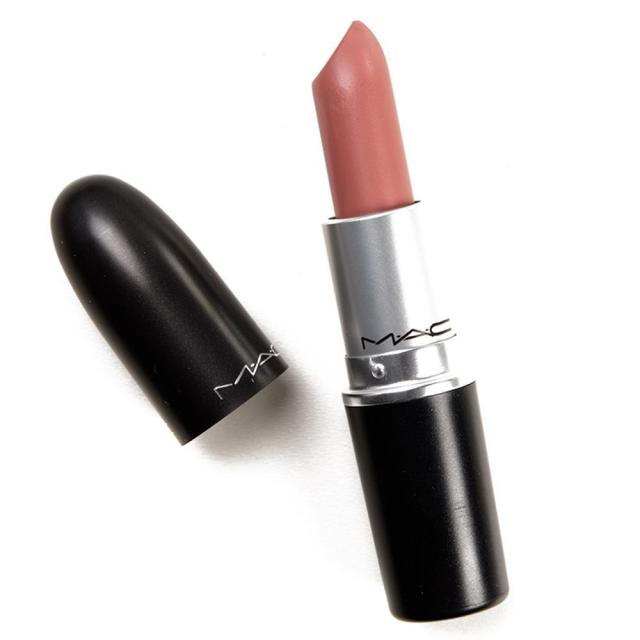lipstick: (304, 1, 539, 626)
